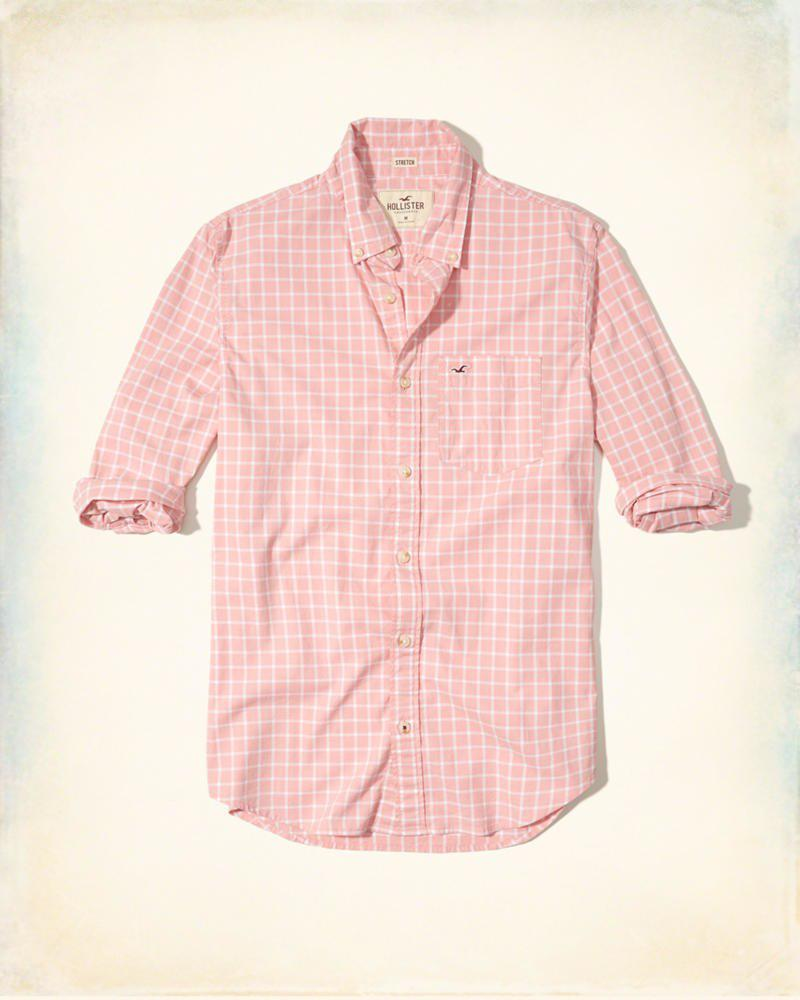teeshirt: (70, 107, 739, 869)
